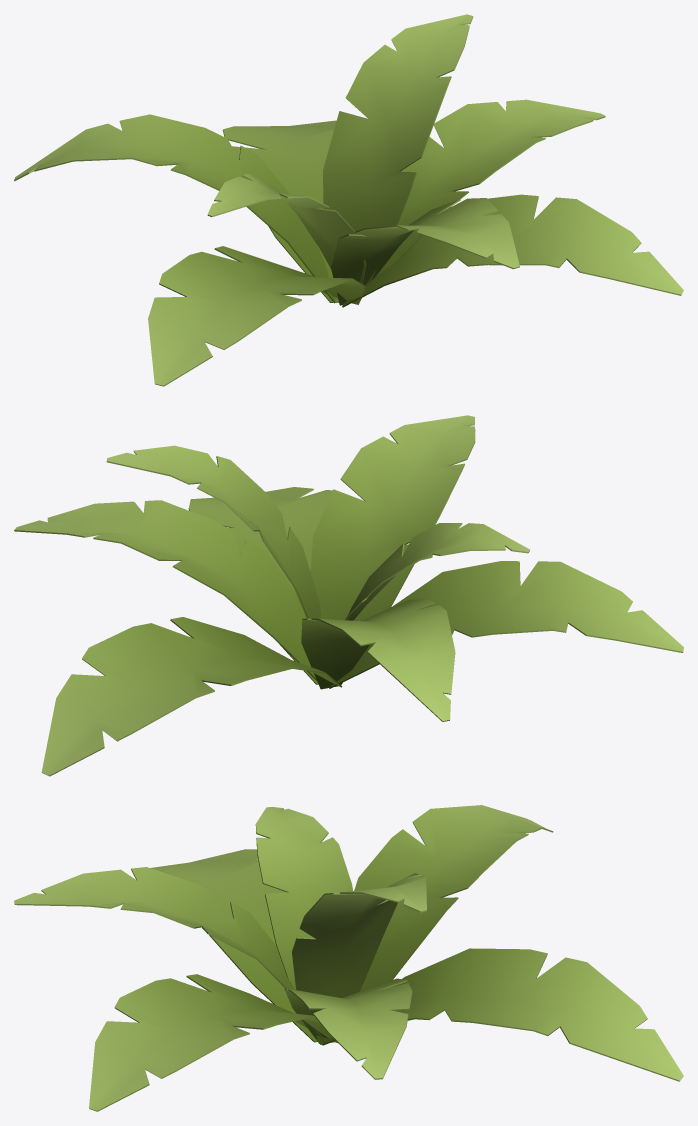
Rendered from Plant_10.glb.
3 renders of one model, top to bottom at view 1: azimuth 30°, elevation 25°; view 2: azimuth 150°, elevation 25°; view 3: azimuth 270°, elevation 25°, orthographic. The views are drawn at different scales.
Visible parts, largest first — view 1: Plant_10_LOD0; view 2: Plant_10_LOD0; view 3: Plant_10_LOD0.
Boxes of the visible parts, box(x1,y1,x2,y2) form: Plant_10_LOD0: box(14, 14, 683, 386); Plant_10_LOD0: box(14, 415, 683, 776); Plant_10_LOD0: box(14, 805, 683, 1111).
Size of what is drawn, in the model's own units: 1.24 by 0.4596 by 1.29.
1 material, 1 textured.
